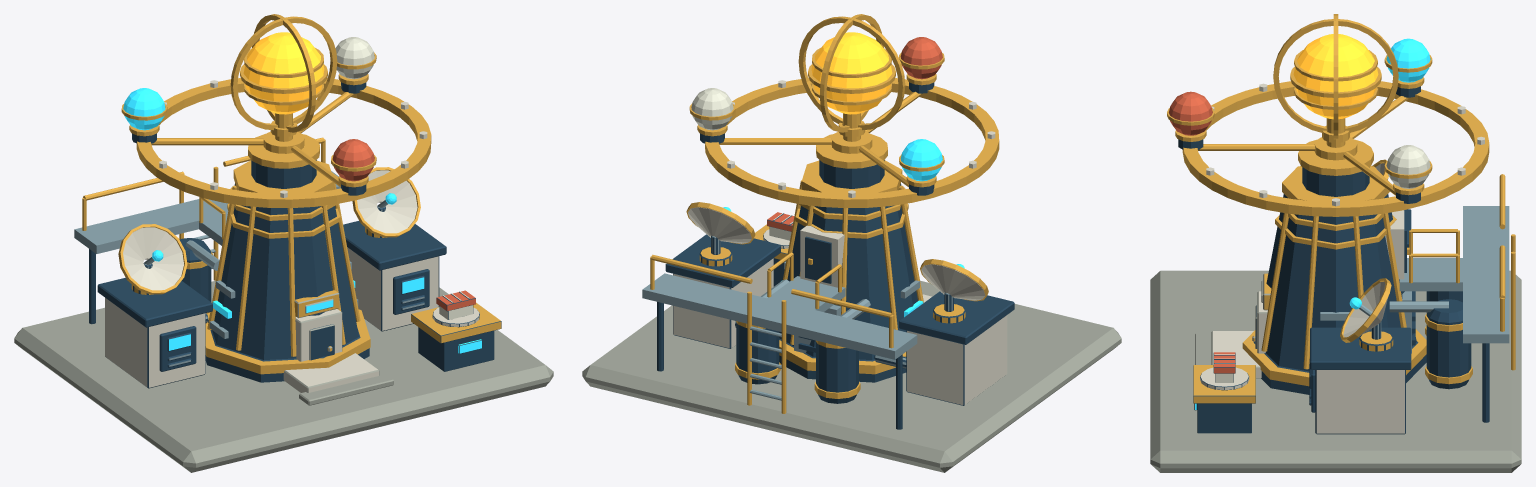
The model's file is sync-lv3.glb.
3 views of the same model, side by side, from view 1: azimuth 30°, elevation 25°; view 2: azimuth 150°, elevation 25°; view 3: azimuth 270°, elevation 25° (orthographic). The views are drawn at different scales.
Visible parts, largest first — view 1: Sync_L3, Planetary_Rail.003, Concave_Dish.004, Celestial_Meridians.001, Concave_Dish.005; view 2: Sync_L3, Planetary_Rail.003, Celestial_Meridians.001, Concave_Dish.004, Concave_Dish.005; view 3: Sync_L3, Planetary_Rail.003, Celestial_Meridians.001, Concave_Dish.005.
Part boxes in pixels (bbox=[...]): Sync_L3: bbox=[14, 32, 553, 472]; Planetary_Rail.003: bbox=[121, 37, 431, 208]; Concave_Dish.004: bbox=[118, 224, 187, 294]; Celestial_Meridians.001: bbox=[230, 14, 337, 137]; Concave_Dish.005: bbox=[352, 167, 420, 237]; Sync_L3: bbox=[582, 32, 1121, 472]; Planetary_Rail.003: bbox=[689, 37, 999, 208]; Celestial_Meridians.001: bbox=[798, 14, 905, 137]; Concave_Dish.004: bbox=[920, 259, 988, 301]; Concave_Dish.005: bbox=[686, 202, 755, 244]; Sync_L3: bbox=[1150, 34, 1521, 472]; Planetary_Rail.003: bbox=[1167, 38, 1489, 216]; Celestial_Meridians.001: bbox=[1273, 14, 1398, 142]; Concave_Dish.005: bbox=[1340, 278, 1391, 342].
Bounding box in the file's own units: 5.4 × 4.86 × 4.5.
